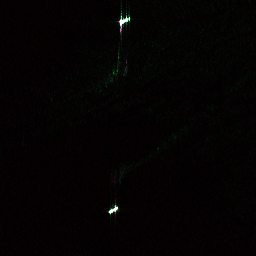ship: (106, 203, 121, 216), (117, 14, 132, 26)
